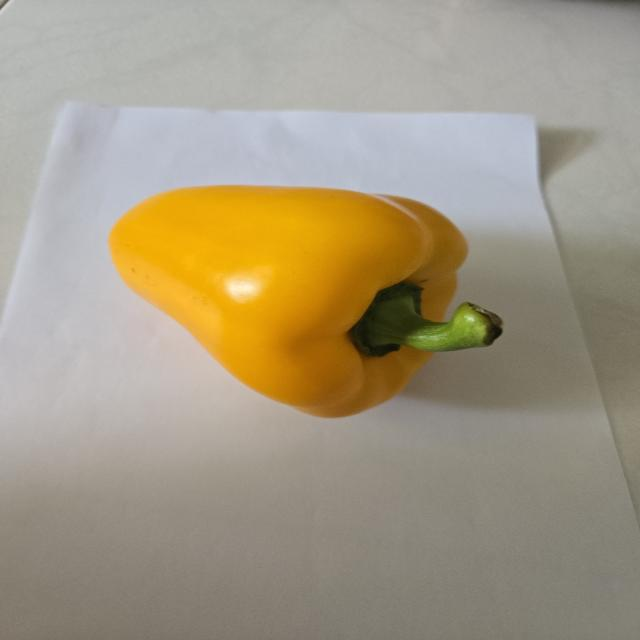bell-pepper: (99, 173, 512, 431)
